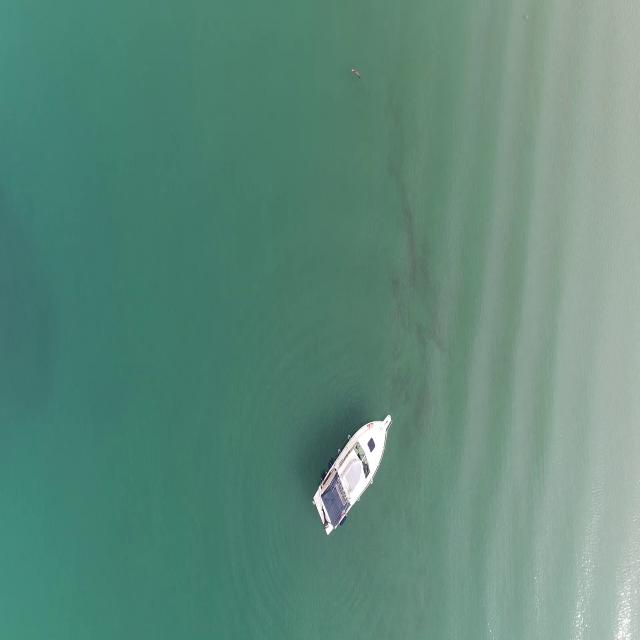boat: (314, 410, 391, 543)
wood: (351, 66, 363, 80)
